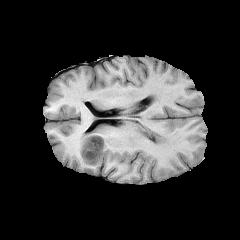glioma: (79, 123, 179, 166)
